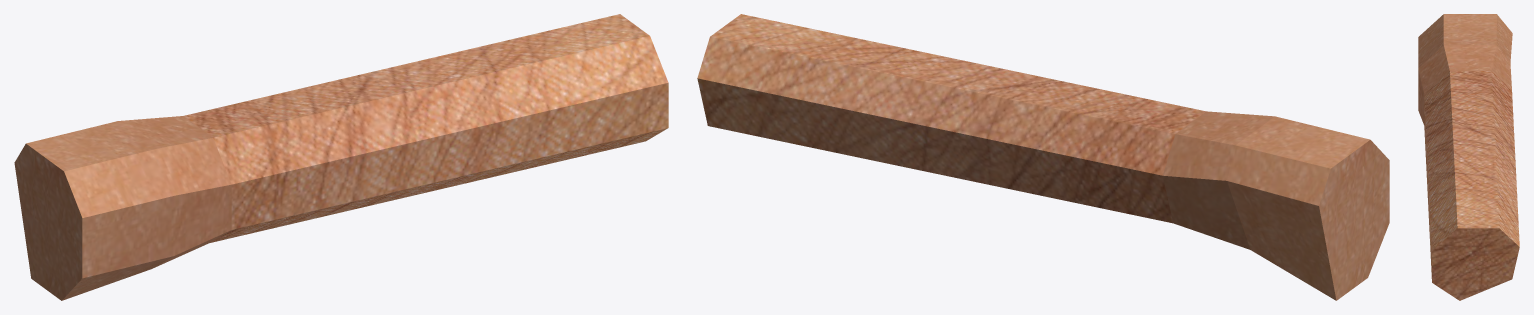
Rendered from desnaruka.glb.
3 views of the same model, side by side, from view 1: azimuth 30°, elevation 25°; view 2: azimuth 150°, elevation 25°; view 3: azimuth 270°, elevation 25° (orthographic). The views are drawn at different scales.
Visible parts, largest first — view 1: ruka; view 2: ruka; view 3: ruka.
Boxes of the visible parts, bbox=[...] form: ruka: bbox=[14, 14, 668, 300]; ruka: bbox=[697, 14, 1389, 300]; ruka: bbox=[1418, 14, 1519, 300].
Bounding box in the file's own units: 0.6352 × 0.1337 × 0.1349.
1 material, 1 textured.
